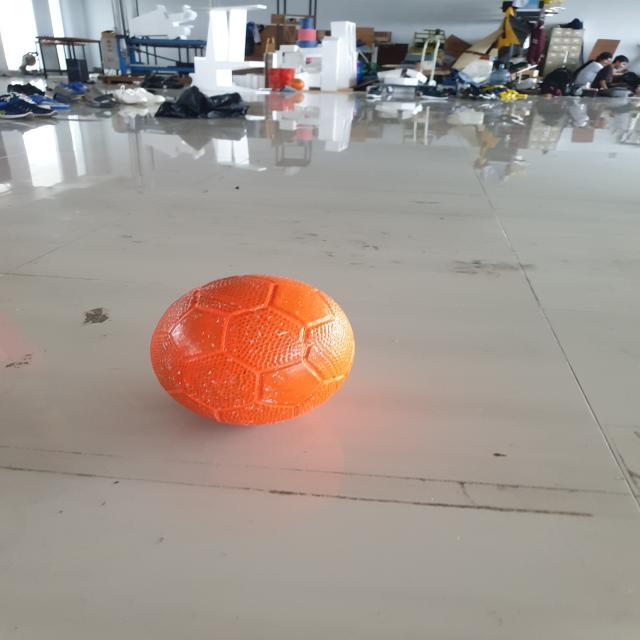bola: (140, 266, 362, 434)
